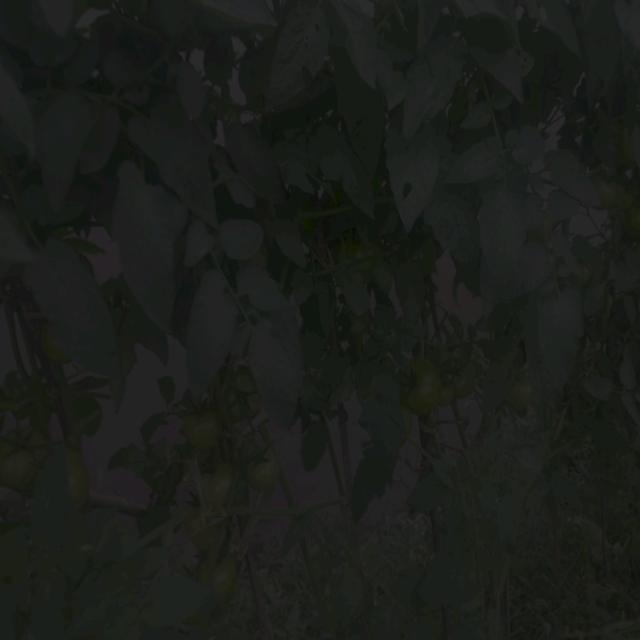tomato: (1, 421, 54, 485), (186, 410, 231, 457), (230, 371, 265, 429), (409, 357, 446, 411), (243, 447, 282, 494), (65, 447, 90, 512), (208, 551, 244, 592), (203, 463, 237, 502), (613, 1, 640, 49), (453, 358, 478, 400), (44, 327, 70, 365), (597, 171, 621, 211), (510, 380, 535, 413), (625, 124, 640, 167), (347, 317, 369, 345), (625, 202, 640, 238), (348, 238, 374, 258)
